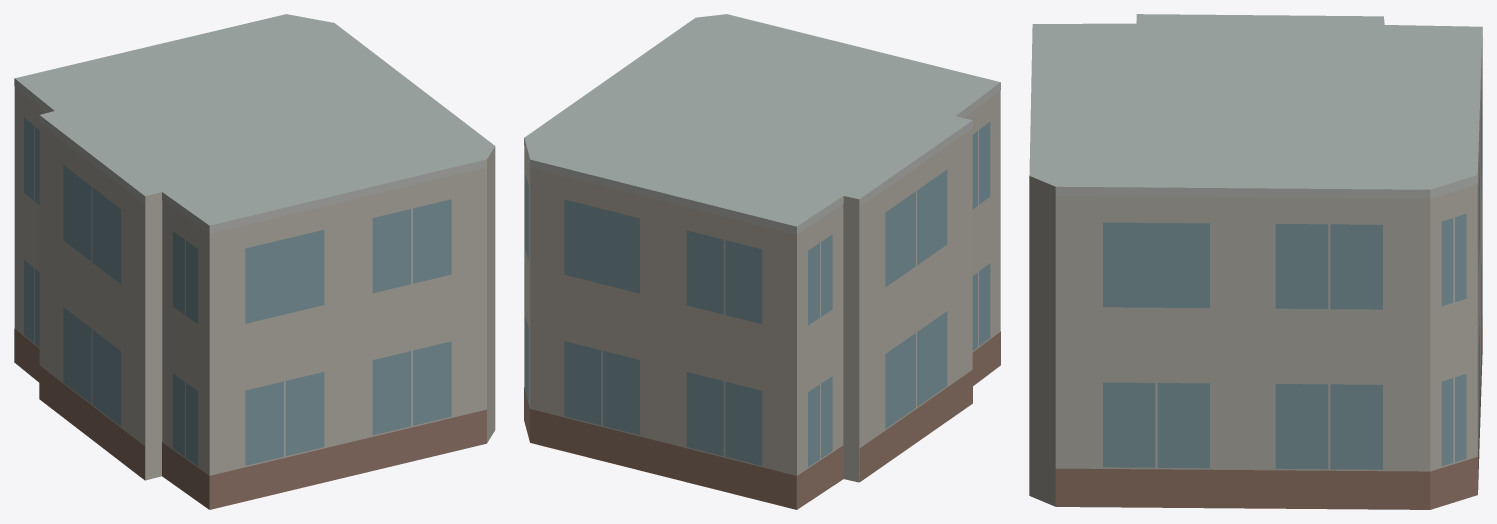
Rendered from survey-upis-32932237.glb.
3 renders of one model, left to right at view 1: azimuth 30°, elevation 25°; view 2: azimuth 150°, elevation 25°; view 3: azimuth 270°, elevation 25°, orthographic. The views are drawn at different scales.
Parts seen in each view (by area): view 1: survey-upis-32932237.tmp; view 2: survey-upis-32932237.tmp; view 3: survey-upis-32932237.tmp.
Boxes of the visible parts, x1,y1,x2,y2 form: survey-upis-32932237.tmp: (14, 14, 495, 509); survey-upis-32932237.tmp: (524, 14, 1000, 509); survey-upis-32932237.tmp: (1029, 14, 1482, 509).
Size of the model in its own units: 10.08 by 8.55 by 10.98.
